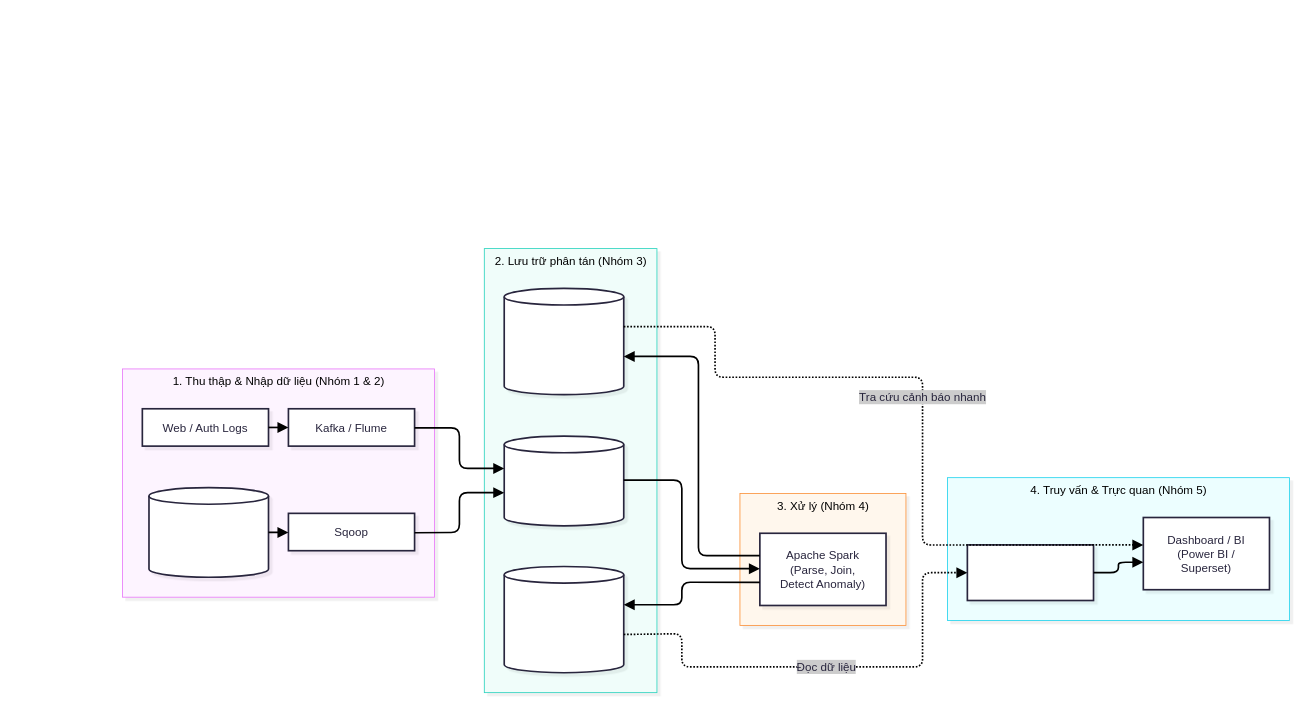
Image size: 1307x710. Some labels were removed from this diagram. Here are the shapes that lost their labels. From the top down, the centre of each, then its label:
At point (565, 342): "HBase (Alerts / Anomaly Logs)".
At point (565, 482): "HDFS (Raw Zone)".
At point (210, 533): "MySQL DB (Users, IP Rules)".
At point (1031, 574): "Hive / Impala (External Tables)".
At point (565, 620): "HDFS (Processed Zone - Parquet)".
